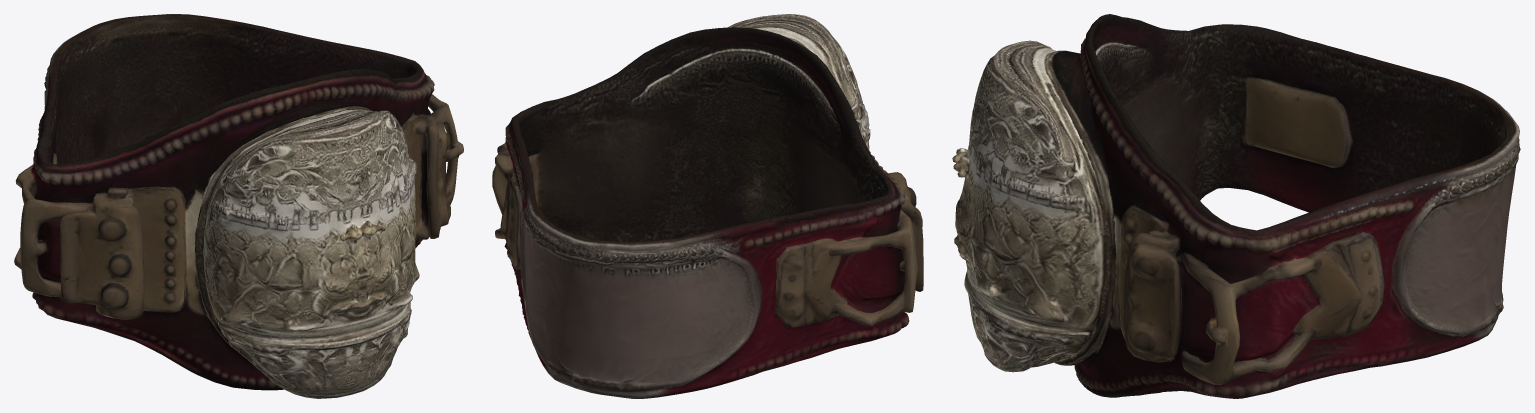
Rendered from prop_mule_championship_belt.glb.
3 views of the same model, side by side, from view 1: azimuth 30°, elevation 25°; view 2: azimuth 150°, elevation 25°; view 3: azimuth 270°, elevation 25° (orthographic). The views are drawn at different scales.
Bounding box in the file's own units: 0.2808 × 0.184 × 0.2832.
Materials: 1 (1 with a texture image).
